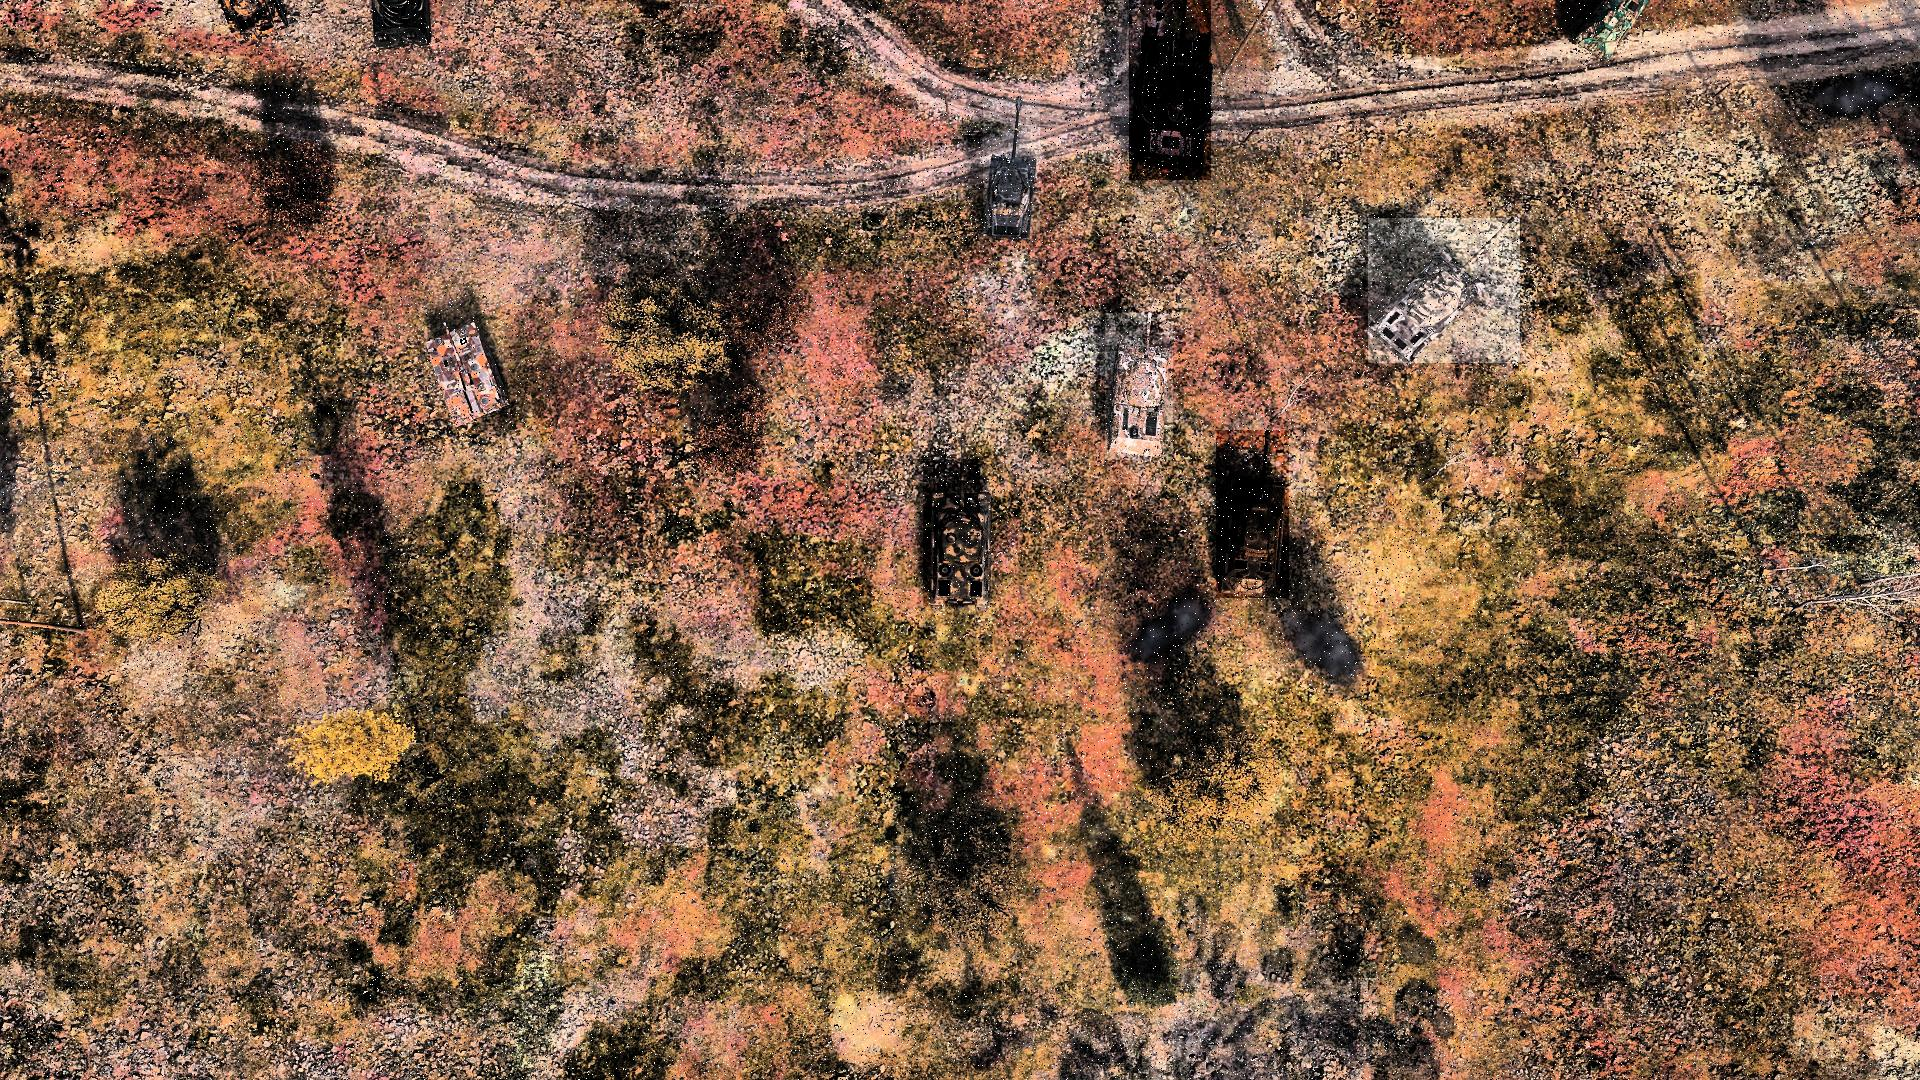military-vehicle: (1369, 219, 1520, 364), (1130, 0, 1212, 179), (1217, 430, 1290, 599), (1105, 314, 1174, 460), (425, 320, 506, 430), (923, 460, 980, 607), (984, 99, 1040, 233)
